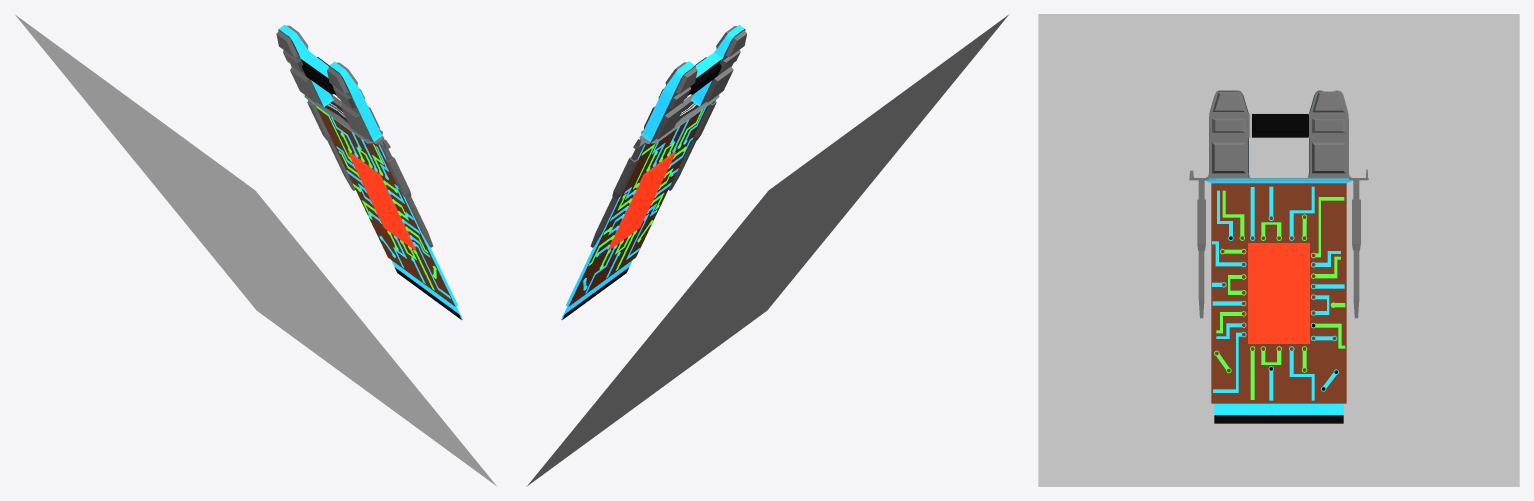
Rendered from chip_key.fbx.
3 renders of one model, left to right at view 1: azimuth 30°, elevation 25°; view 2: azimuth 150°, elevation 25°; view 3: azimuth 270°, elevation 25°, orthographic.
Parts seen in each view (by area): view 1: besi, chip_key; view 2: besi, chip_key; view 3: besi, chip_key.
Boxes of the visible parts, x1,y1,x2,y2 form: besi: (14,14,497,486); chip_key: (276,25,462,319); besi: (526,14,1009,486); chip_key: (561,25,746,319); besi: (1038,14,1519,486); chip_key: (1189,90,1368,423).
Bounding box in the file's own units: 1026 × 1216 × 1448.
